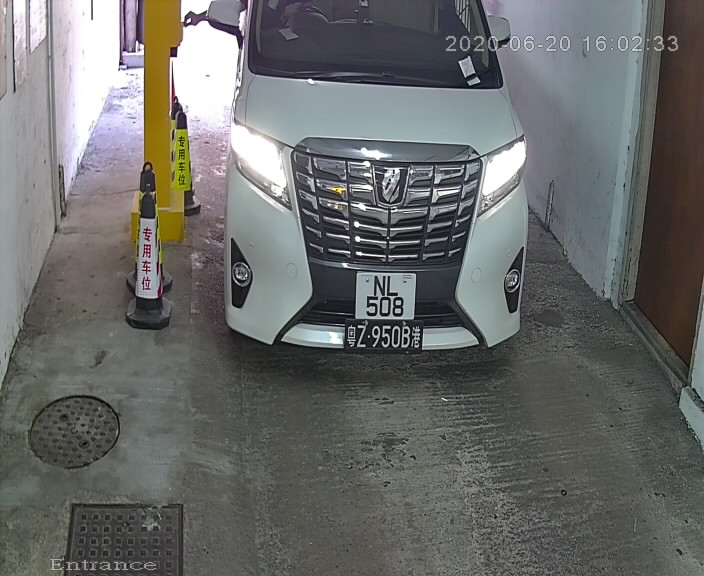privatecar: (192, 2, 553, 391)
